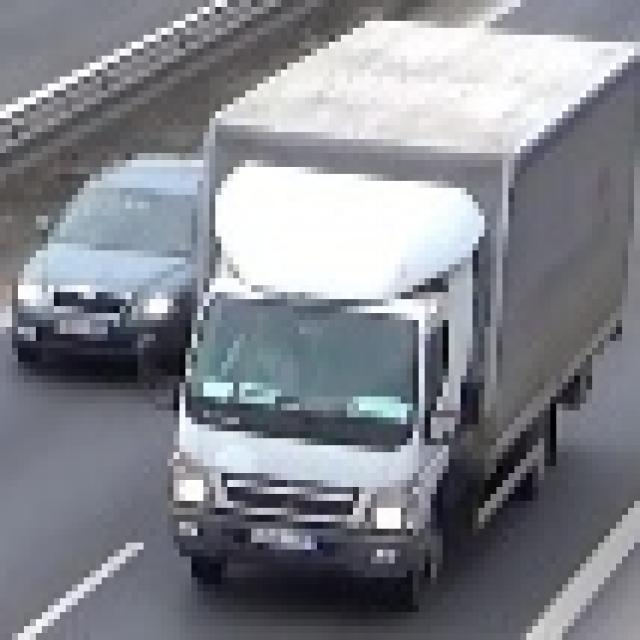Truck: (162, 7, 634, 606)
